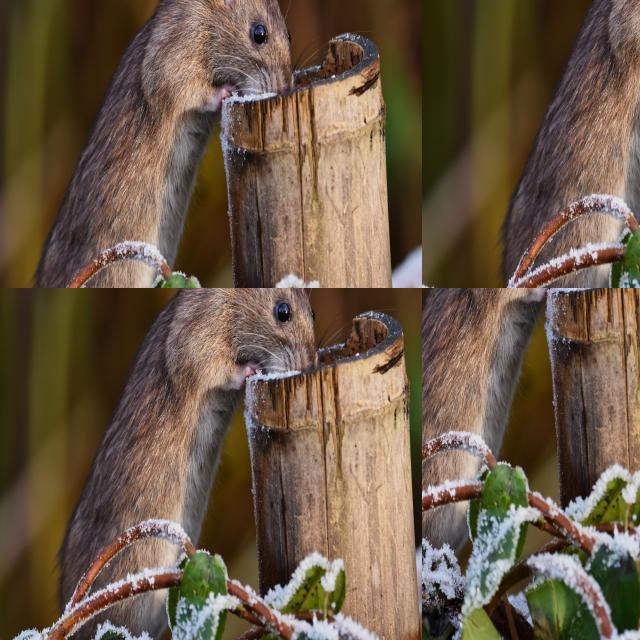rat: (422, 288, 616, 551)
